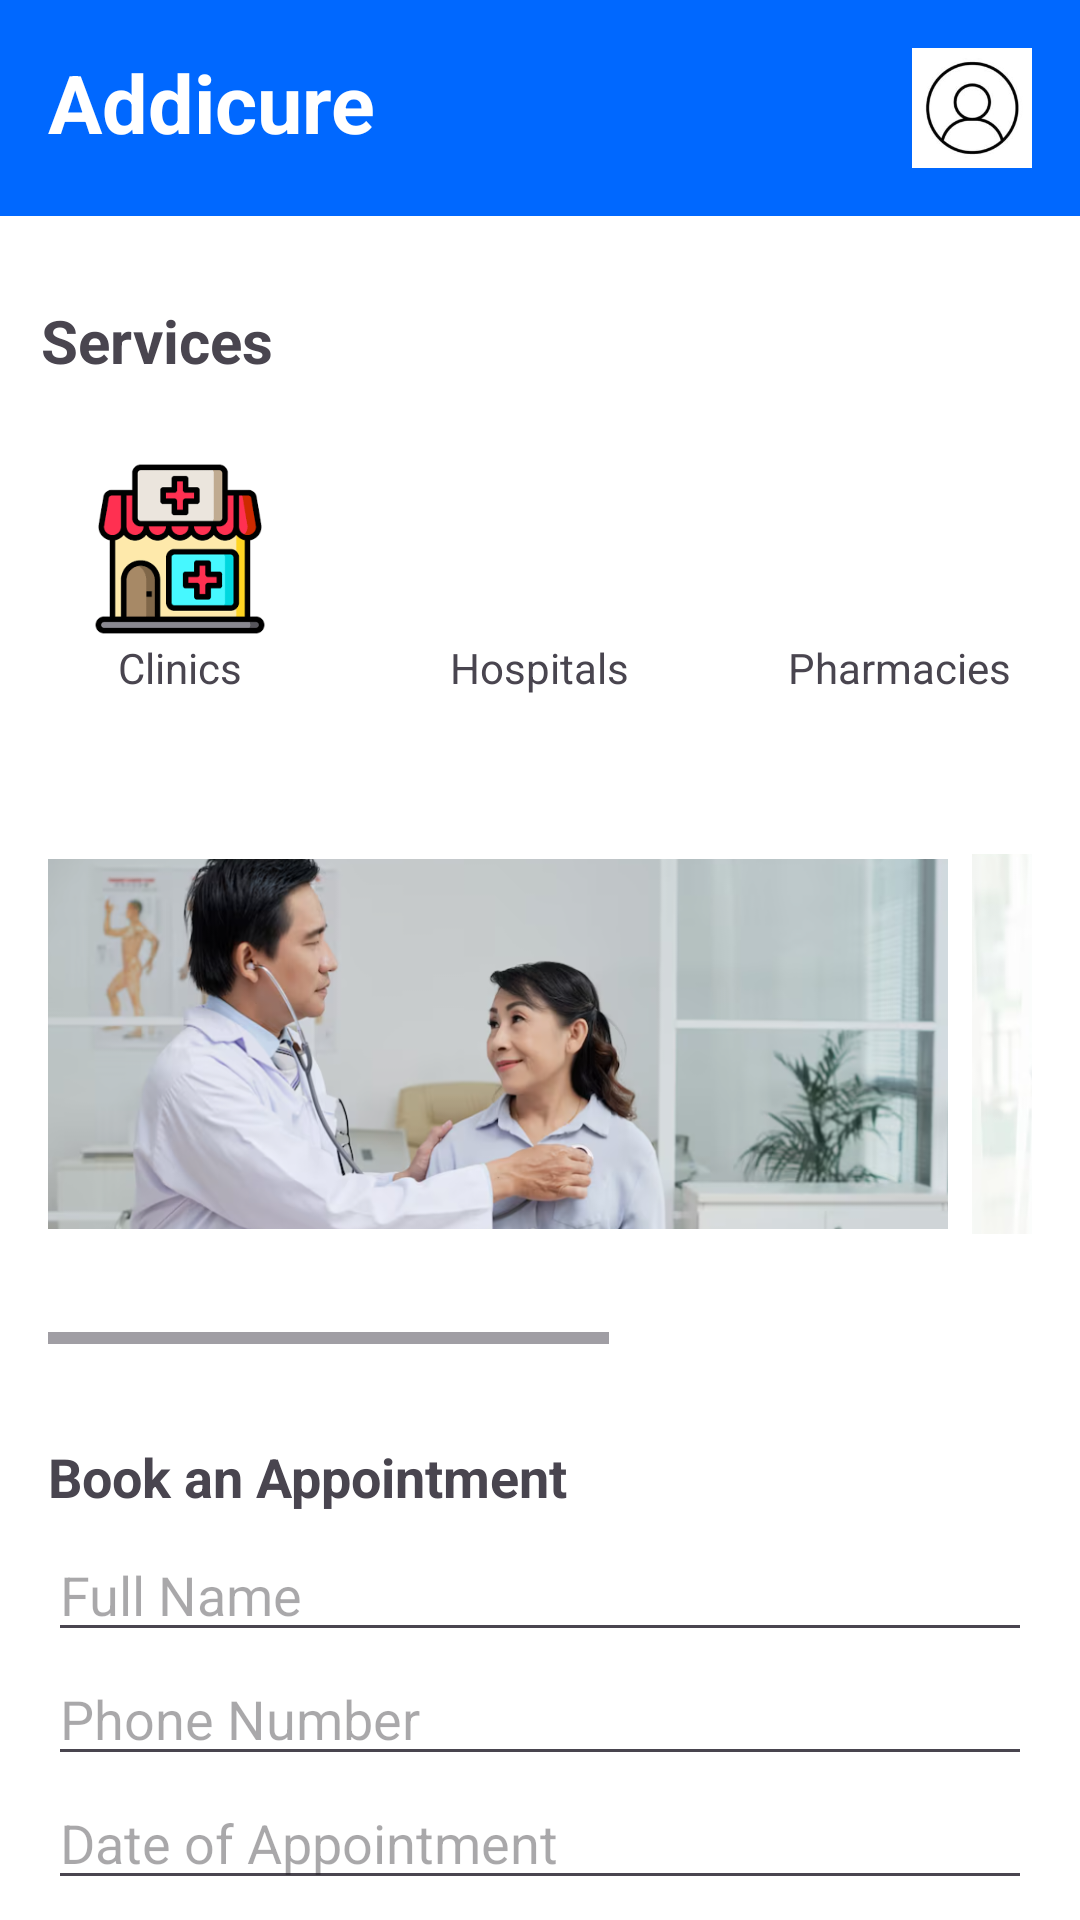

Locate icon controls on the screen. Image size 1080*1920, boxes as box(x1, y1, x2, y2).
user: box(912, 48, 1032, 168)
